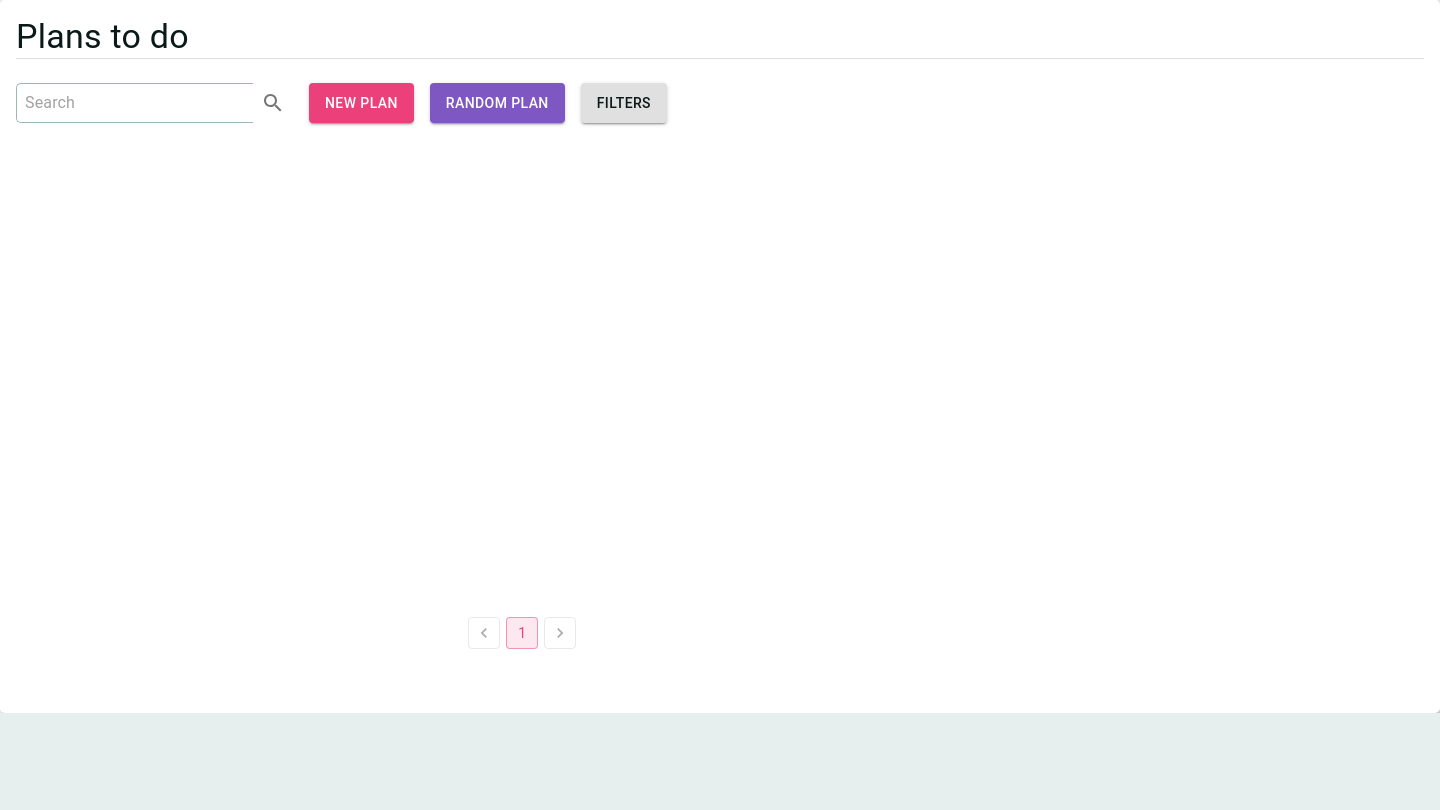
Test: when clicking the cancel button form for creating a plan is closed
Click the button "New Plan".
click(361, 103)  # box x1=309 y1=83 x2=414 y2=123
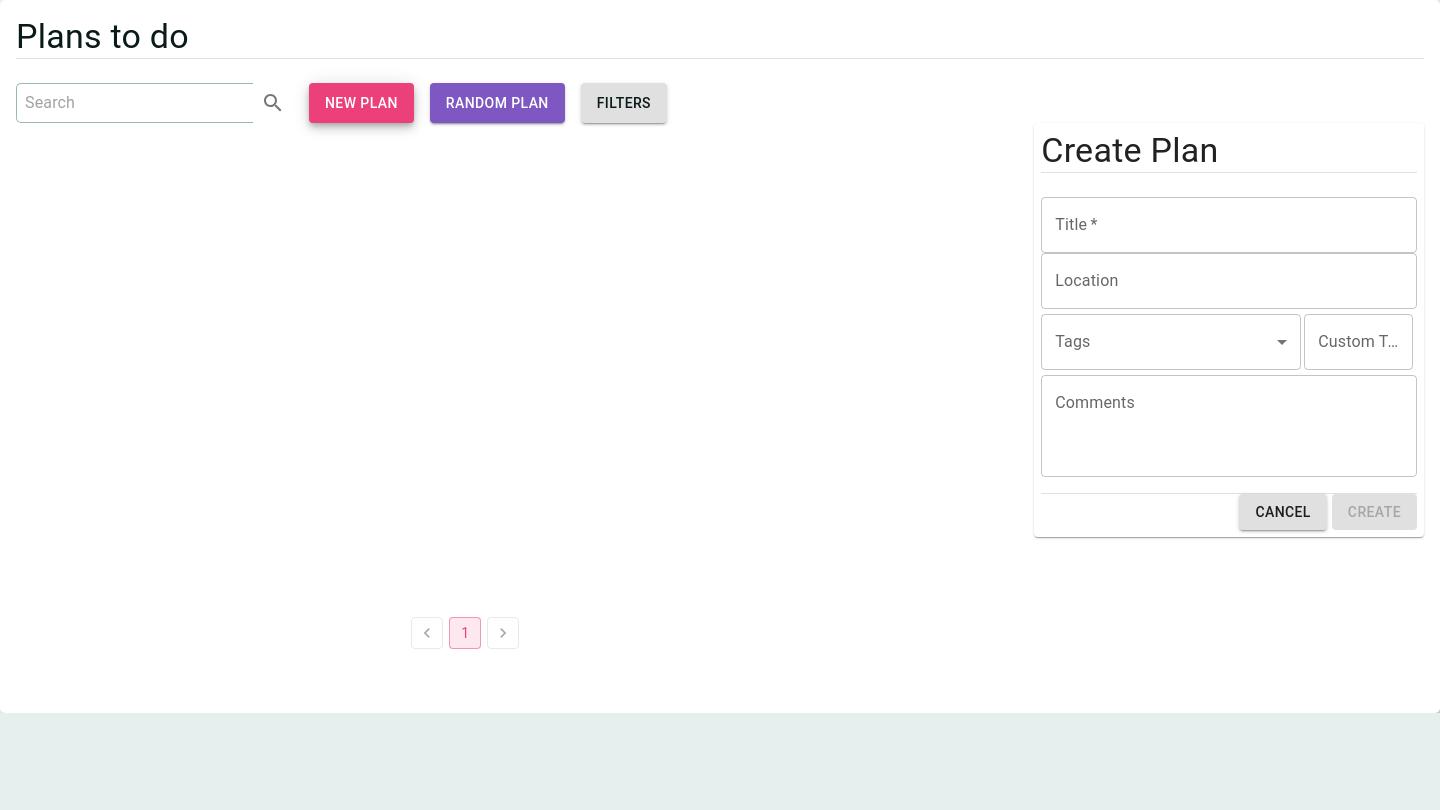
Click the button "Cancel".
click(1283, 512)  # box x1=1239 y1=494 x2=1327 y2=530
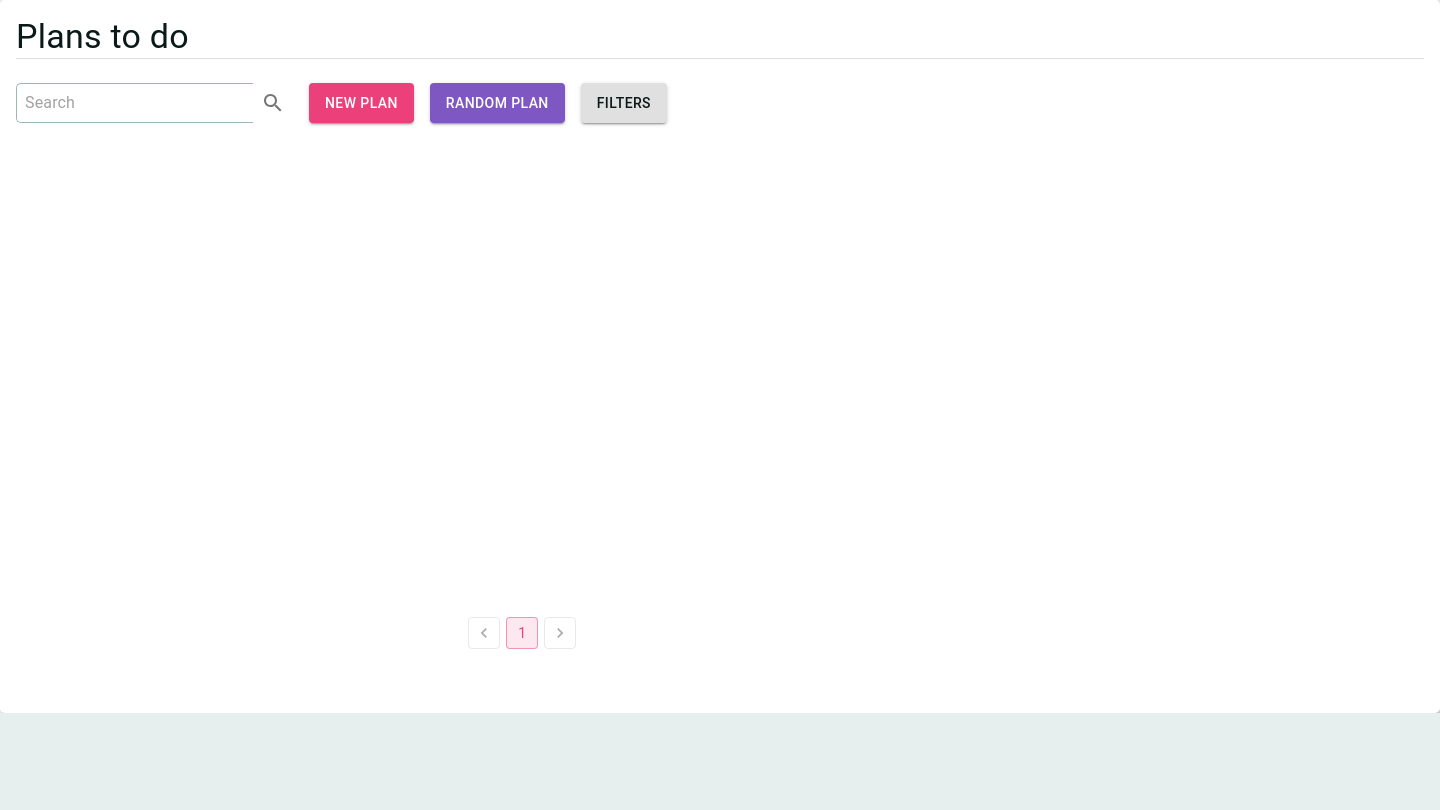
Expected: the heading "Create Plan" is gone
